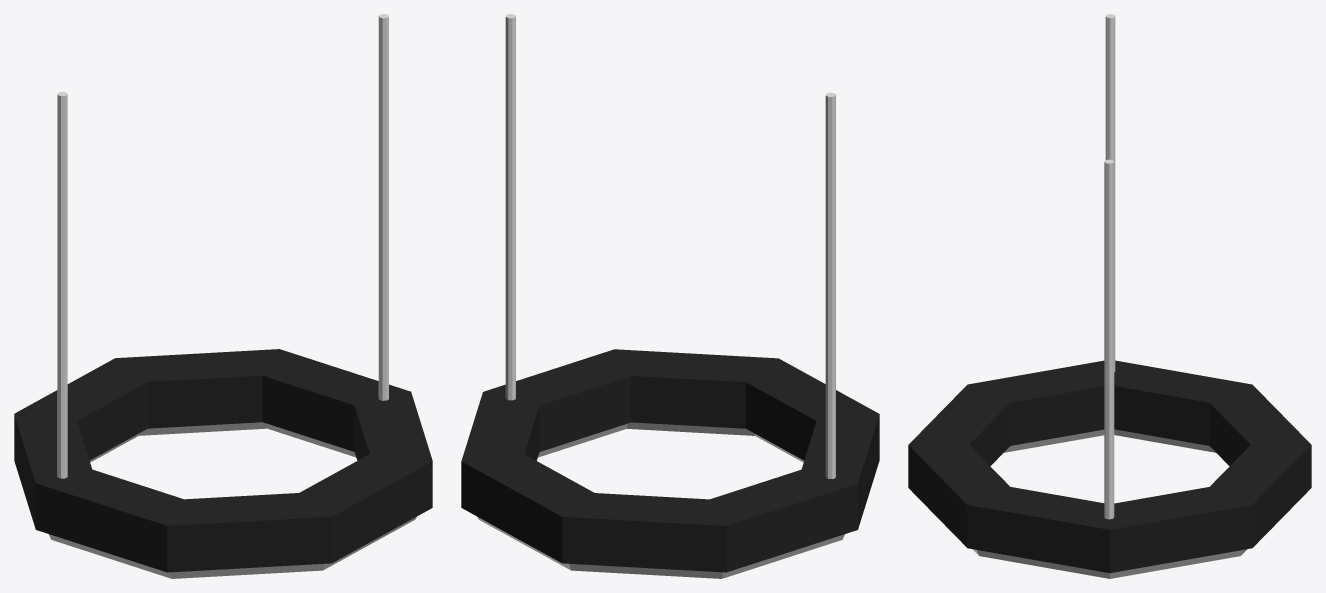
Rendered from Chandelier.fbx.
3 views of the same model, side by side, from view 1: azimuth 30°, elevation 25°; view 2: azimuth 150°, elevation 25°; view 3: azimuth 270°, elevation 25° (orthographic). The views are drawn at different scales.
Visible parts, largest first — view 1: Chandelier; view 2: Chandelier; view 3: Chandelier.
Part boxes in pixels (bbox=[...]): Chandelier: bbox=[14, 14, 432, 578]; Chandelier: bbox=[461, 14, 879, 578]; Chandelier: bbox=[908, 14, 1311, 578].
Size of the model in its own units: 2 by 2.27 by 2.
